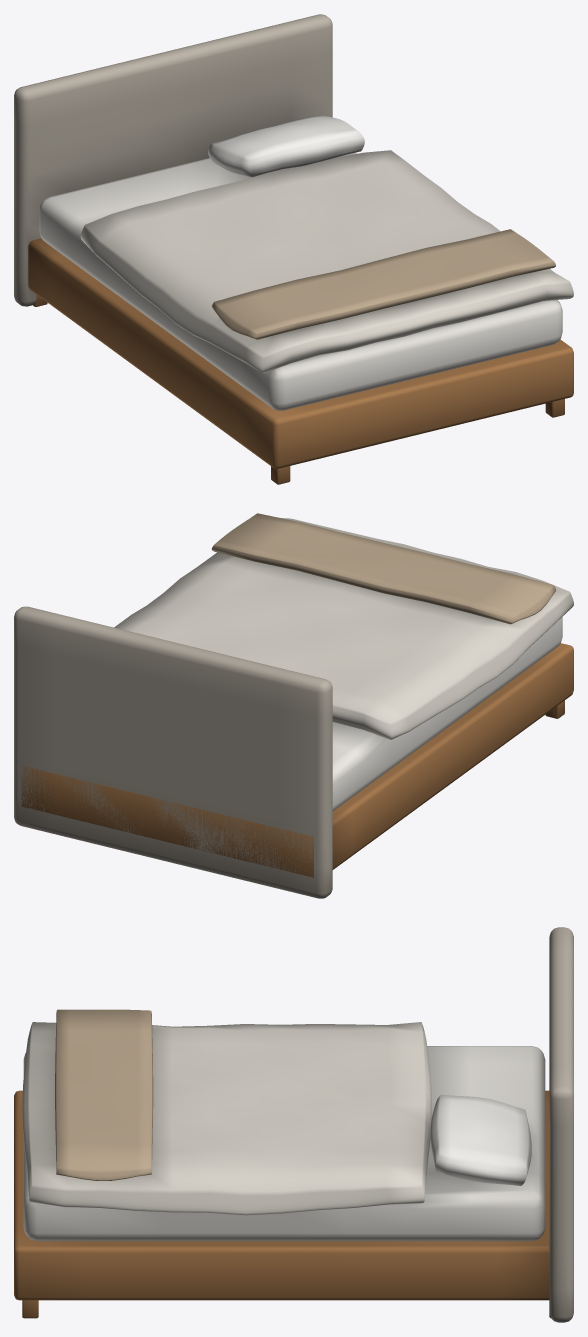
File: lit140.glb
3 renders of one model, top to bottom at view 1: azimuth 30°, elevation 25°; view 2: azimuth 150°, elevation 25°; view 3: azimuth 270°, elevation 25°, orthographic. The views are drawn at different scales.
Parts seen in each view (by area): view 1: couette, tete, cadre, matelas, plaid, oreillers; view 2: tete, couette, cadre, plaid, matelas; view 3: couette, cadre, matelas, plaid, tete, oreillers.
Part boxes in pixels (x1,y1,x2,y2): couette: (80, 150, 573, 373); tete: (14, 14, 332, 306); cadre: (28, 238, 573, 484); matelas: (39, 152, 562, 410); plaid: (211, 229, 555, 339); oreillers: (208, 115, 364, 177); tete: (14, 606, 332, 898); couette: (114, 518, 573, 739); cadre: (21, 643, 573, 877); plaid: (211, 513, 555, 624); matelas: (332, 617, 562, 811); couette: (22, 1022, 431, 1215); cadre: (14, 1090, 550, 1318); matelas: (23, 1046, 545, 1241); plaid: (55, 1009, 153, 1180); tete: (549, 927, 573, 1322); oreillers: (430, 1095, 531, 1185).
Bounding box in the file's own units: 1.48 × 0.95 × 2.05.
